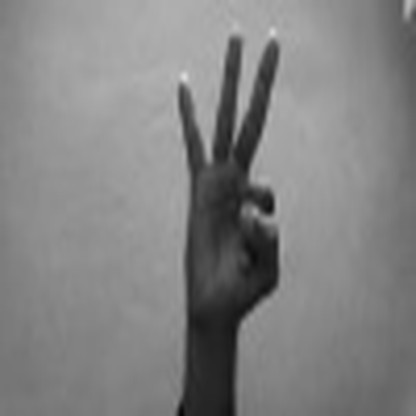f: (159, 22, 306, 327)
